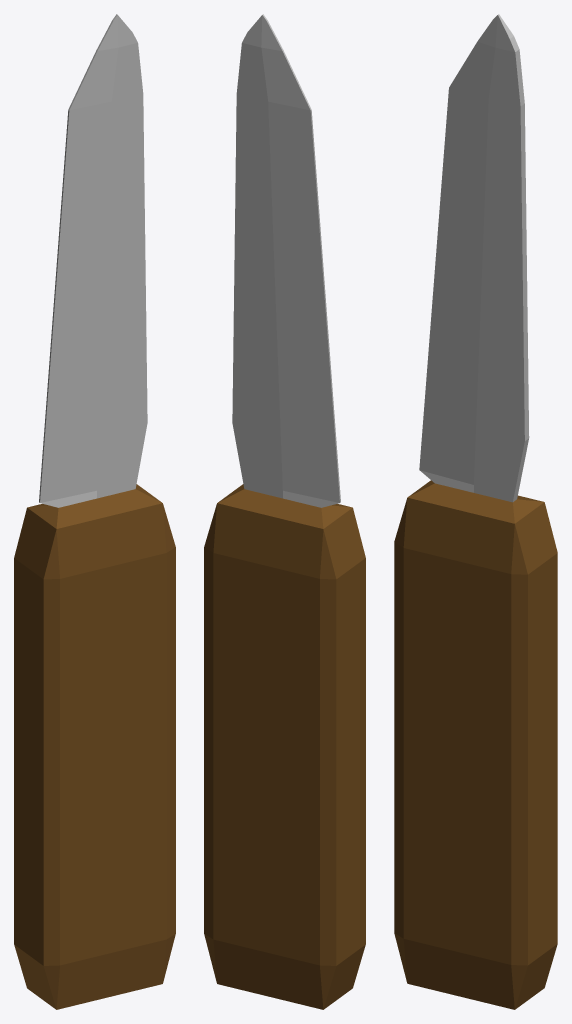
File: Knife.fbx
The picture shows the model from 3 angles, left to right: view 1: azimuth 30°, elevation 25°; view 2: azimuth 150°, elevation 25°; view 3: azimuth 330°, elevation 25°; orthographic projection.
Visible parts, largest first — view 1: Knife, KnifeBlade; view 2: Knife, KnifeBlade; view 3: Knife, KnifeBlade.
Boxes of the visible parts, x1,y1,x2,y2 form: Knife: [14, 484, 175, 1009]; KnifeBlade: [39, 14, 147, 507]; Knife: [204, 484, 365, 1009]; KnifeBlade: [232, 14, 340, 507]; Knife: [394, 480, 557, 1009]; KnifeBlade: [419, 14, 529, 502].
Size of the model in its own units: 44.78 by 313 by 21.51.
